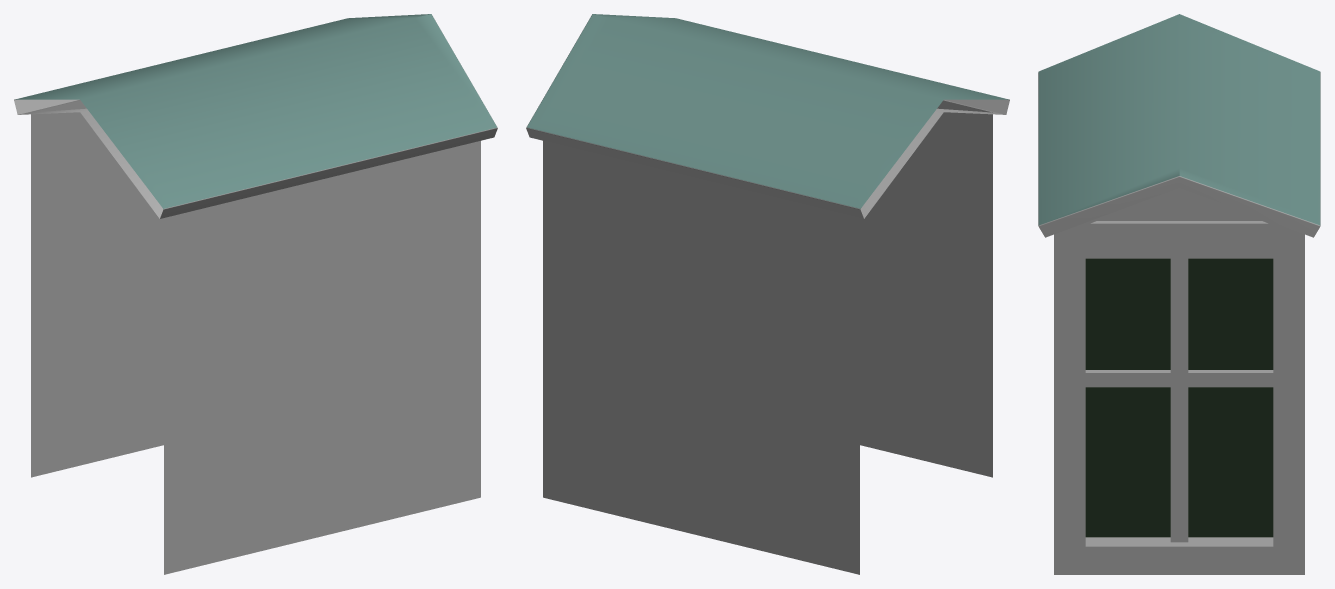
The model's file is SM_Bovindo_LP.fbx.
3 renders of one model, left to right at view 1: azimuth 30°, elevation 25°; view 2: azimuth 150°, elevation 25°; view 3: azimuth 270°, elevation 25°, orthographic. The views are drawn at different scales.
Parts seen in each view (by area): view 1: polySurface1267; view 2: polySurface1267; view 3: polySurface1267.
Part boxes in pixels (box(x1,y1,x2,y2)): polySurface1267: box(14, 14, 497, 574); polySurface1267: box(526, 14, 1009, 574); polySurface1267: box(1038, 14, 1320, 574).
Size of the model in its own units: 267 by 313 by 197.
